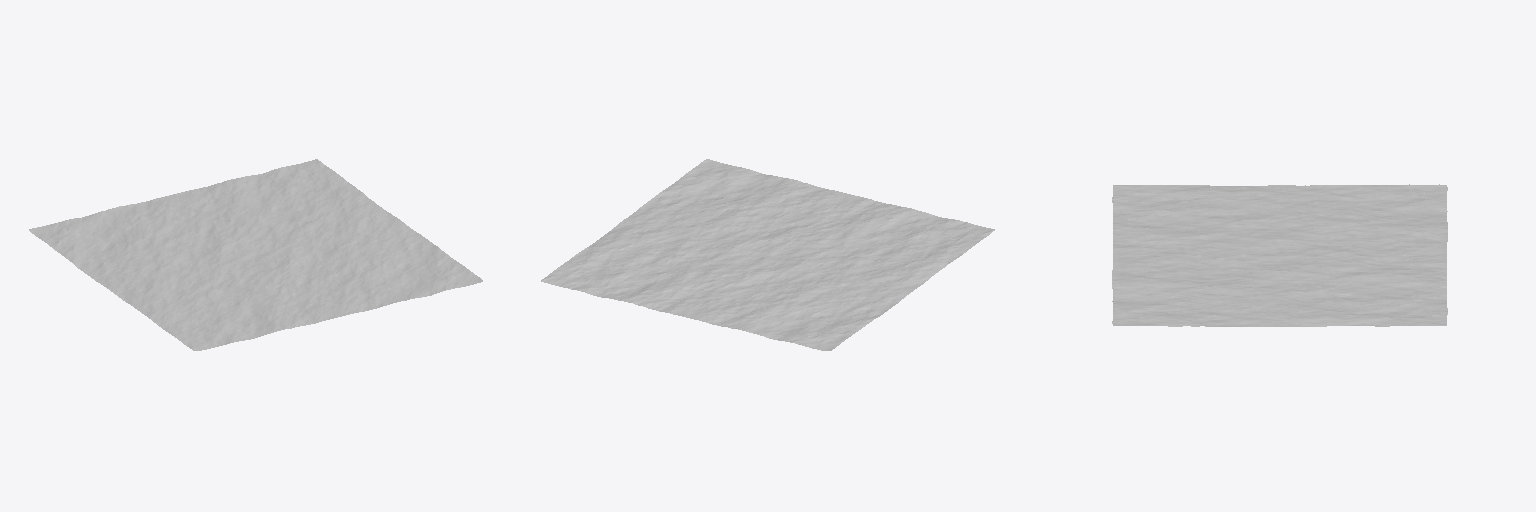
The model's file is sea_000004.obj.
3 views of the same model, side by side, from view 1: azimuth 30°, elevation 25°; view 2: azimuth 150°, elevation 25°; view 3: azimuth 270°, elevation 25° (orthographic).
Visible parts, largest first — view 1: Plane; view 2: Plane; view 3: Plane.
Part boxes in pixels (left/top/right/bottom): Plane: left=29, top=159, right=482, bottom=350; Plane: left=541, top=159, right=994, bottom=350; Plane: left=1112, top=184, right=1447, bottom=326.
Size of the model in its own units: 201 by 1.69 by 201.